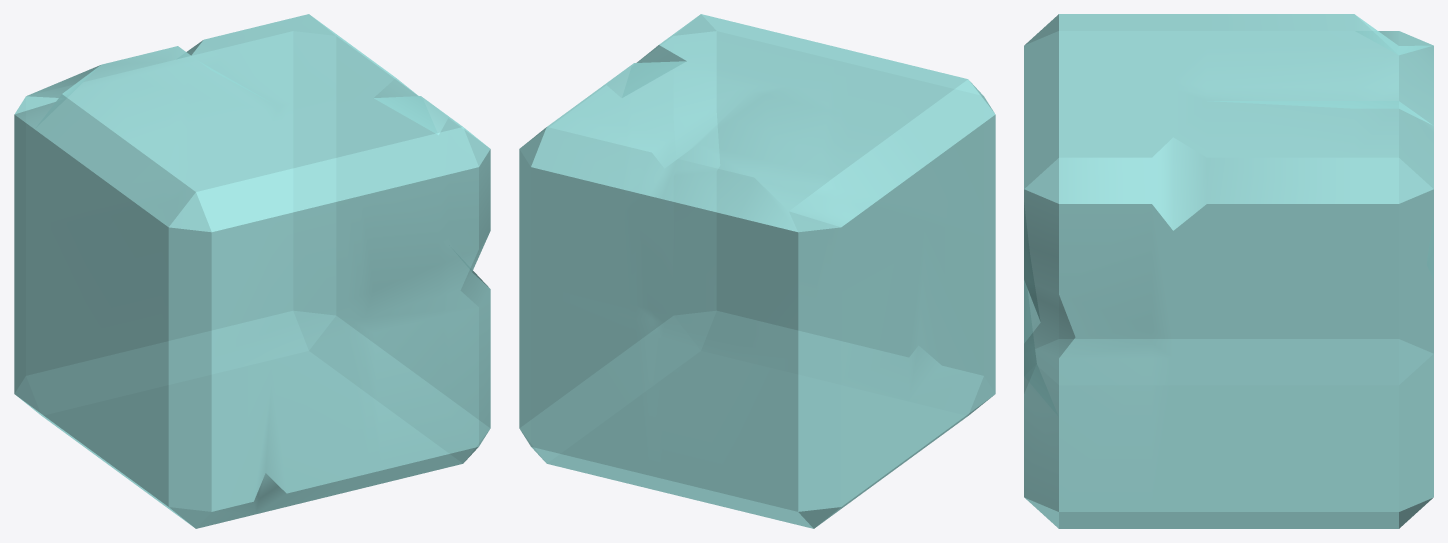
The model's file is IceBlockMesh.fbx.
3 renders of one model, left to right at view 1: azimuth 30°, elevation 25°; view 2: azimuth 150°, elevation 25°; view 3: azimuth 270°, elevation 25°, orthographic. The views are drawn at different scales.
Visible parts, largest first — view 1: pCube1; view 2: pCube1; view 3: pCube1.
Boxes of the visible parts, bbox=[...] form: pCube1: bbox=[14, 14, 490, 528]; pCube1: bbox=[519, 14, 995, 528]; pCube1: bbox=[1024, 14, 1433, 528].
Bounding box in the file's own units: 1 × 1 × 1.
